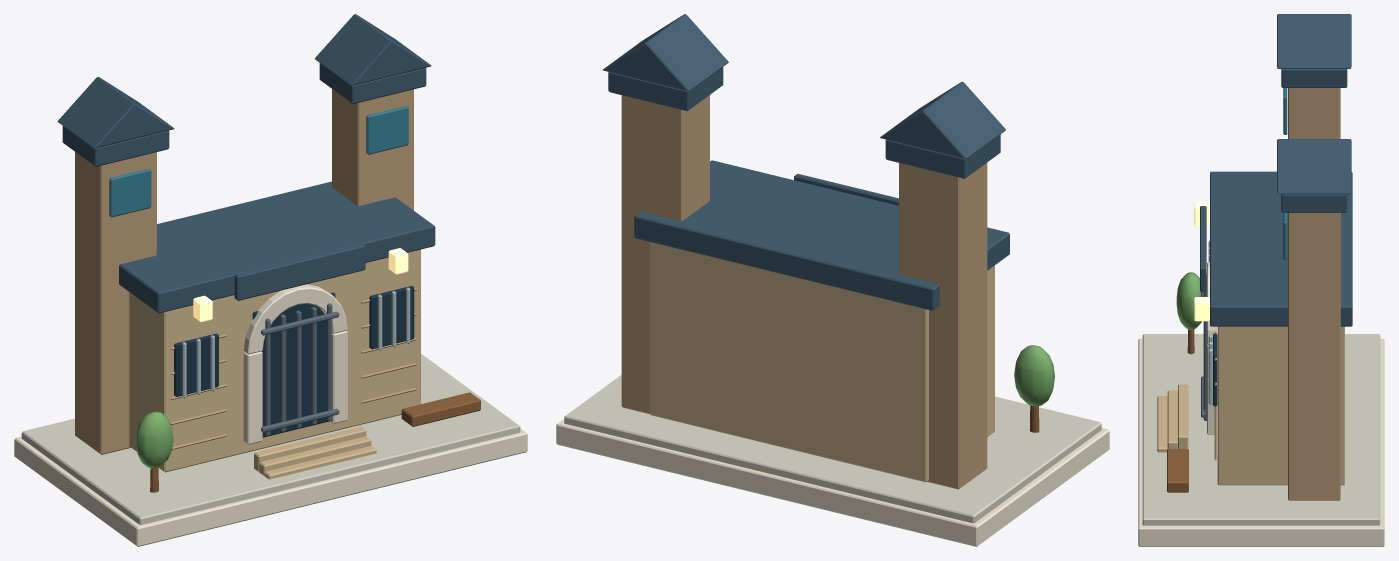
Rendered from jail.glb.
3 renders of one model, left to right at view 1: azimuth 30°, elevation 25°; view 2: azimuth 150°, elevation 25°; view 3: azimuth 270°, elevation 25°, orthographic. The views are drawn at different scales.
Parts seen in each view (by area): view 1: Jail; view 2: Jail; view 3: Jail.
Boxes of the visible parts, bbox=[...] form: Jail: bbox=[14, 14, 527, 546]; Jail: bbox=[556, 14, 1109, 546]; Jail: bbox=[1138, 14, 1384, 546].
Size of the model in its own units: 1.47 by 1.36 by 0.8064.
